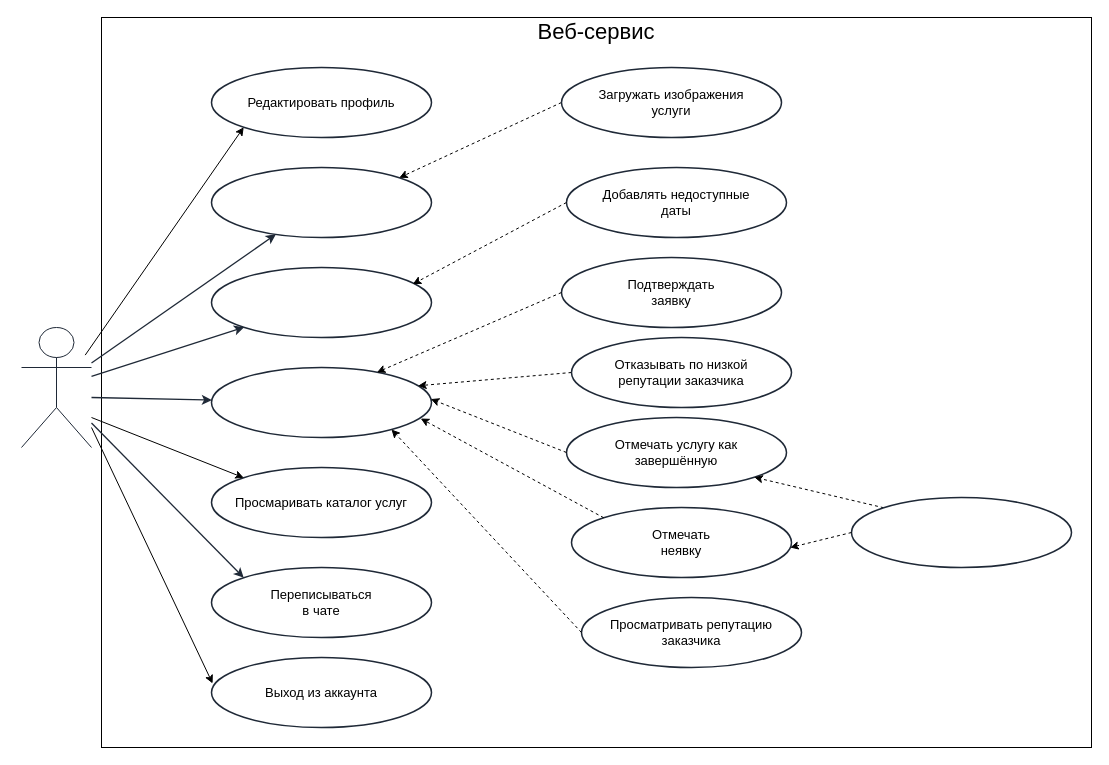
This 1109x765 diagram has some shape labels left out. The shapes that lost their labels are listed below. From the top down, each one's centre as x and y in pixels, then its label:
(321,202): Создавать и редактировать услуги
(321,302): Настраивать расписание
(56,387): Исполнитель
(321,402): Просматривать входящие заявки
(961,532): Оставлять отзыв о заказчике
